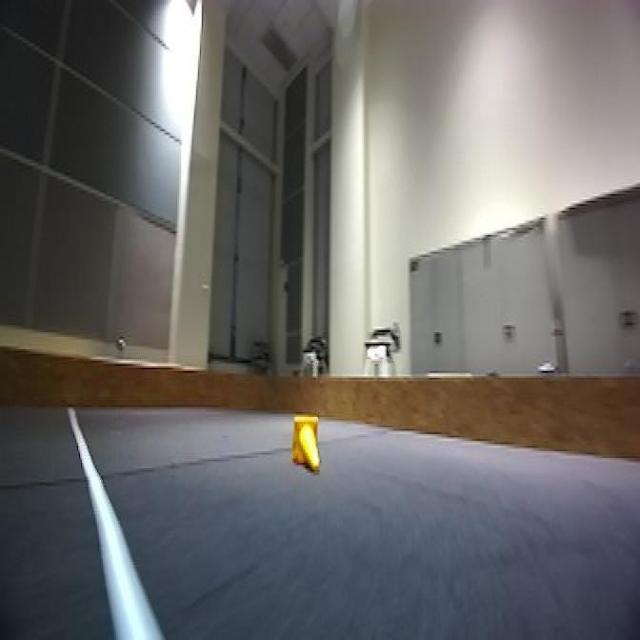frc_cone: (290, 415, 323, 468)
